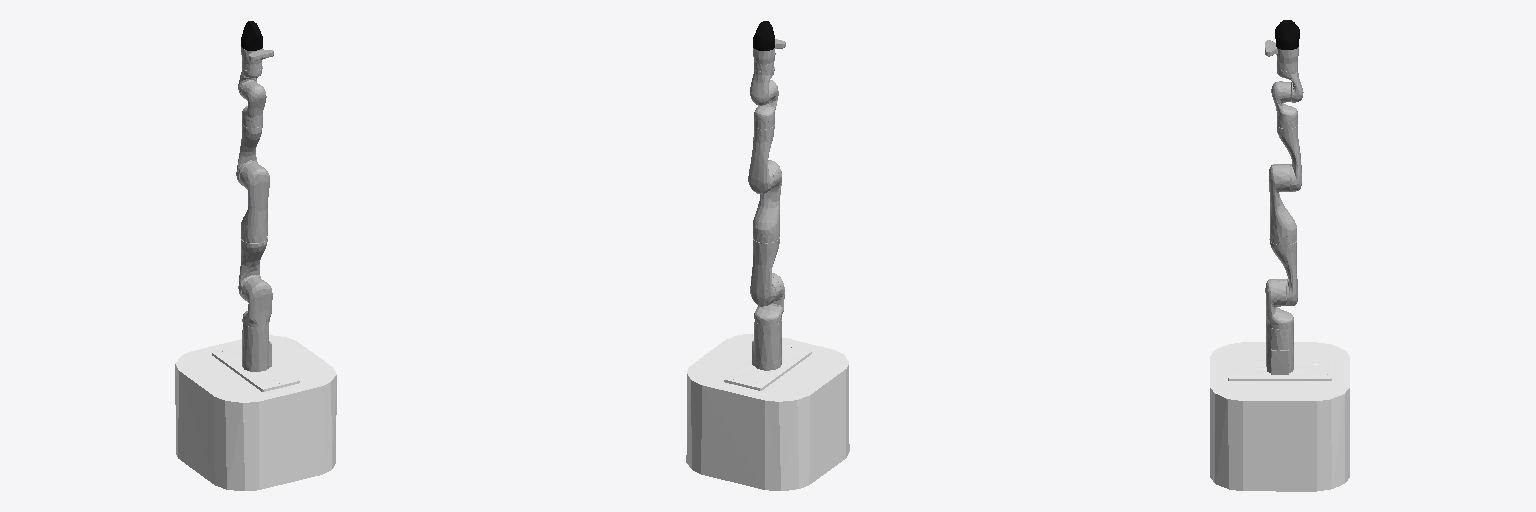
URDF robot description (gen3_robotiq_2f_85):
<?xml version="1.0" encoding="utf-8"?>
<!-- =================================================================================== -->
<!-- |    This document was autogenerated by xacro from gen3_robotiq_2f_85.xacro       | -->
<!-- |    EDITING THIS FILE BY HAND IS NOT RECOMMENDED                                 | -->
<!-- =================================================================================== -->
<robot name="gen3_robotiq_2f_85">
  <material name="White">
    <color rgba="1 1 1 1"/>
  </material>
  <material name="Grey">
    <color rgba="0.75294 0.75294 0.75294 1"/>
  </material>
  <material name="DarkGrey">
    <color rgba="0.2 0.2 0.2 1"/>
  </material>
  <material name="LightGrey">
    <color rgba="0.9 0.9 0.9 1"/>
  </material>
  <link name="mobile_base_link">
    <inertial>
      <origin rpy="0 0 0" xyz="0 0 0.085"/>
      <mass value="50.0"/>
      <inertia ixx="0.004622" ixy="9E-06" ixz="6E-05" iyy="0.004495" iyz="9E-06" izz="0.002079"/>
    </inertial>
    <visual>
      <origin rpy="0 0 0" xyz="0 0 0"/>
      <geometry>
        <mesh filename="meshes/base/mobile_base.obj"/>
      </geometry>
      <material name="White"/>
    </visual>
    <collision>
      <origin rpy="0 0 0" xyz="0 0 0"/>
      <geometry>
        <mesh filename="meshes/base/mobile_base.obj"/>
      </geometry>
    </collision>
  </link>
  <link name="kinova_base_link">
    <inertial>
      <origin rpy="0 0 0" xyz="-0.000648 -0.000166 0.084487"/>
      <mass value="1.697"/>
      <inertia ixx="0.004622" ixy="9E-06" ixz="6E-05" iyy="0.004495" iyz="9E-06" izz="0.002079"/>
    </inertial>
    <visual>
      <origin rpy="0 0 0" xyz="0 0 0"/>
      <geometry>
        <mesh filename="meshes/arm_col/base_link.STL"/>
      </geometry>
      <material name="">
        <color rgba="0.75294 0.75294 0.75294 1"/>
      </material>
    </visual>
    <collision>
      <origin rpy="0 0 0" xyz="0 0 0"/>
      <geometry>
        <mesh filename="meshes/arm_col/base_link.STL"/>
      </geometry>
    </collision>
  </link>
  <joint name="joint_0" type="fixed">
    <!-- NOTE: in reality x is reversed for kinova arm, hence non-zero rpy -->
    <origin rpy="0 0 3.14159" xyz="0 0 0.335"/>
    <parent link="mobile_base_link"/>
    <child link="kinova_base_link"/>
    <axis xyz="0 0 1"/>
  </joint>
  <link name="shoulder_link">
    <inertial>
      <origin rpy="0 0 0" xyz="-2.3E-05 -0.010364 -0.07336"/>
      <mass value="1.3773"/>
      <inertia ixx="0.00457" ixy="1E-06" ixz="2E-06" iyy="0.004831" iyz="0.000448" izz="0.001409"/>
    </inertial>
    <visual>
      <origin rpy="0 0 0" xyz="0 0 0"/>
      <geometry>
        <mesh filename="meshes/arm_col/shoulder_link.STL"/>
      </geometry>
      <material name="">
        <color rgba="0.75294 0.75294 0.75294 1"/>
      </material>
    </visual>
    <collision>
      <origin rpy="0 0 0" xyz="0 0 0"/>
      <geometry>
        <mesh filename="meshes/arm_col/shoulder_link.STL"/>
      </geometry>
    </collision>
  </link>
  <joint name="joint_1" type="continuous">
    <origin rpy="3.1416 2.7629E-18 -4.9305E-36" xyz="0 0 0.15643"/>
    <parent link="kinova_base_link"/>
    <child link="shoulder_link"/>
    <axis xyz="0 0 1"/>
    <limit effort="39" lower="-3.14" upper="3.14" velocity="1.3963"/>
  </joint>
  <link name="half_arm_1_link">
    <inertial>
      <origin rpy="0 0 0" xyz="-4.4E-05 -0.09958 -0.013278"/>
      <mass value="1.1636"/>
      <inertia ixx="0.011088" ixy="5E-06" ixz="0" iyy="0.001072" iyz="-0.000691" izz="0.011255"/>
    </inertial>
    <visual>
      <origin rpy="0 0 0" xyz="0 0 0"/>
      <geometry>
        <mesh filename="meshes/arm_col/half_arm_1_link.STL"/>
      </geometry>
      <material name="LightGrey">
        <color rgba="0.75294 0.75294 0.75294 1"/>
      </material>
    </visual>
    <collision>
      <origin rpy="0 0 0" xyz="0 0 0"/>
      <geometry>
        <mesh filename="meshes/arm_col/half_arm_1_link.STL"/>
      </geometry>
    </collision>
  </link>
  <joint name="joint_2" type="revolute">
    <origin rpy="1.5708 2.1343E-17 -1.1102E-16" xyz="0 0.005375 -0.12838"/>
    <parent link="shoulder_link"/>
    <child link="half_arm_1_link"/>
    <axis xyz="0 0 1"/>
    <limit effort="100" lower="-6.2832" upper="6.2832" velocity="0.5"/>
  </joint>
  <link name="half_arm_2_link">
    <inertial>
      <origin rpy="0 0 0" xyz="-4.4E-05 -0.006641 -0.117892"/>
      <mass value="1.1636"/>
      <inertia ixx="0.010932" ixy="0" ixz="-7E-06" iyy="0.011127" iyz="0.000606" izz="0.001043"/>
    </inertial>
    <visual>
      <origin rpy="0 0 0" xyz="0 0 0"/>
      <geometry>
        <mesh filename="meshes/arm_col/half_arm_2_link.STL"/>
      </geometry>
      <material name="Grey">
        <color rgba="0.75294 0.75294 0.75294 1"/>
      </material>
    </visual>
    <collision>
      <origin rpy="0 0 0" xyz="0 0 0"/>
      <geometry>
        <mesh filename="meshes/arm_col/half_arm_2_link.STL"/>
      </geometry>
    </collision>
  </link>
  <joint name="joint_3" type="revolute">
    <origin rpy="-1.5708 1.2326E-32 -2.9122E-16" xyz="0 -0.21038 -0.006375"/>
    <parent link="half_arm_1_link"/>
    <child link="half_arm_2_link"/>
    <axis xyz="0 0 1"/>
    <limit effort="100" lower="-6.2832" upper="6.2832" velocity="0.5"/>
  </joint>
  <link name="forearm_link">
    <inertial>
      <origin rpy="0 0 0" xyz="-1.8E-05 -0.075478 -0.015006"/>
      <mass value="0.9302"/>
      <inertia ixx="0.008147" ixy="-1E-06" ixz="0" iyy="0.000631" iyz="-0.0005" izz="0.008316"/>
    </inertial>
    <visual>
      <origin rpy="0 0 0" xyz="0 0 0"/>
      <geometry>
        <mesh filename="meshes/arm_col/forearm_link.STL"/>
      </geometry>
      <material name="LightGrey">
        <color rgba="0.75294 0.75294 0.75294 1"/>
      </material>
    </visual>
    <collision>
      <origin rpy="0 0 0" xyz="0 0 0"/>
      <geometry>
        <mesh filename="meshes/arm_col/forearm_link.STL"/>
      </geometry>
    </collision>
  </link>
  <joint name="joint_4" type="revolute">
    <origin rpy="1.5708 -6.6954E-17 -1.6653E-16" xyz="0 0.006375 -0.21038"/>
    <parent link="half_arm_2_link"/>
    <child link="forearm_link"/>
    <axis xyz="0 0 1"/>
    <limit effort="100" lower="-6.2832" upper="6.2832" velocity="0.5"/>
  </joint>
  <link name="spherical_wrist_1_link">
    <inertial>
      <origin rpy="0 0 0" xyz="1E-06 -0.009432 -0.063883"/>
      <mass value="0.6781"/>
      <inertia ixx="0.001596" ixy="0" ixz="0" iyy="0.001607" iyz="0.000256" izz="0.000399"/>
    </inertial>
    <visual>
      <origin rpy="0 0 0" xyz="0 0 0"/>
      <geometry>
        <mesh filename="meshes/arm_col/spherical_wrist_1_link.STL"/>
      </geometry>
      <material name="Grey">
        <color rgba="0.75294 0.75294 0.75294 1"/>
      </material>
    </visual>
    <collision>
      <origin rpy="0 0 0" xyz="0 0 0"/>
      <geometry>
        <mesh filename="meshes/arm_col/spherical_wrist_1_link.STL"/>
      </geometry>
    </collision>
  </link>
  <joint name="joint_5" type="revolute">
    <origin rpy="-1.5708 2.2204E-16 -6.373E-17" xyz="0 -0.20843 -0.006375"/>
    <parent link="forearm_link"/>
    <child link="spherical_wrist_1_link"/>
    <axis xyz="0 0 1"/>
    <limit effort="30" lower="-6.2832" upper="6.2832" velocity="0.5"/>
  </joint>
  <link name="spherical_wrist_2_link">
    <inertial>
      <origin rpy="0 0 0" xyz="1E-06 -0.045483 -0.00965"/>
      <mass value="0.6781"/>
      <inertia ixx="0.001641" ixy="0" ixz="0" iyy="0.00041" iyz="-0.000278" izz="0.001641"/>
    </inertial>
    <visual>
      <origin rpy="0 0 0" xyz="0 0 0"/>
      <geometry>
        <mesh filename="meshes/arm_col/spherical_wrist_2_link.STL"/>
      </geometry>
      <material name="Grey">
        <color rgba="0.75294 0.75294 0.75294 1"/>
      </material>
    </visual>
    <collision>
      <origin rpy="0 0 0" xyz="0 0 0"/>
      <geometry>
        <mesh filename="meshes/arm_col/spherical_wrist_2_link.STL"/>
      </geometry>
    </collision>
  </link>
  <joint name="joint_6" type="revolute">
    <origin rpy="1.5708 9.2076E-28 -8.2157E-15" xyz="0 0.00017505 -0.10593"/>
    <parent link="spherical_wrist_1_link"/>
    <child link="spherical_wrist_2_link"/>
    <axis xyz="0 0 1"/>
    <limit effort="30" lower="-6.2832" upper="6.2832" velocity="0.5"/>
  </joint>
  <link name="bracelet_link">
    <inertial>
      <origin rpy="0 0 0" xyz="0.000281 0.011402 -0.029798"/>
      <mass value="0.5"/>
      <inertia ixx="0.000587" ixy="3E-06" ixz="3E-06" iyy="0.000369" iyz="-0.000118" izz="0.000609"/>
    </inertial>
    <visual>
      <origin rpy="0 0 0" xyz="0 0 0"/>
      <geometry>
        <mesh filename="meshes/arm_col/bracelet_with_vision_link.STL"/>
      </geometry>
      <material name="Grey">
        <color rgba="0.75294 0.75294 0.75294 1"/>
      </material>
    </visual>
    <collision>
      <origin rpy="0 0 0" xyz="0 0 0"/>
      <geometry>
        <mesh filename="meshes/arm_col/bracelet_with_vision_link.STL"/>
      </geometry>
    </collision>
  </link>
  <joint name="joint_7" type="revolute">
    <origin rpy="-1.5708 -5.5511E-17 9.6396E-17" xyz="0 -0.10593 -0.00017505"/>
    <parent link="spherical_wrist_2_link"/>
    <child link="bracelet_link"/>
    <axis xyz="0 0 1"/>
    <limit effort="30" lower="-6.2832" upper="6.2832" velocity="0.5"/>
  </joint>
  <link name="end_effector_link"/>
  <joint name="end_effector" type="fixed">
    <origin rpy="3.14159265358979 1.09937075168372E-32 0" xyz="0 0 -0.0615250000000001"/>
    <parent link="bracelet_link"/>
    <child link="end_effector_link"/>
    <axis xyz="0 0 0"/>
  </joint>
  <!-- Tool frame used by the arm -->
  <link name="tool_frame"/>
  <joint name="tool_frame_joint" type="fixed">
    <origin rpy="0 0 0" xyz="0 0 0.1425"/>  # was: 0.120
    <parent link="end_effector_link"/>
    <child link="tool_frame"/>
    <axis xyz="0 0 0"/>
  </joint>
  <!-- This joint was added by Kinova -->
  <joint name="gripper_base_joint" type="fixed">
    <parent link="end_effector_link"/>
    <child link="robotiq_arg2f_base_link"/>
    <origin rpy="0.0 0.0 1.57" xyz="0.0 0.0 0.0"/>
  </joint>
  <link name="robotiq_arg2f_base_link">
    <inertial>
      <origin rpy="0 0 0" xyz="8.625E-08 -4.6583E-06 0.03145"/>
      <mass value="0.22652"/>
      <inertia ixx="0.00020005" ixy="-4.2442E-10" ixz="-2.9069E-10" iyy="0.00017832" iyz="-3.4402E-08" izz="0.00013478"/>
    </inertial>
    <visual>
      <origin rpy="0 0 0" xyz="0 0 0"/>
      <geometry>
        <mesh filename="meshes/gripper/collision/robotiq_arg2f_base_link_kinova_frame.stl"/>
      </geometry>
      <material name="DarkGrey">
        <color rgba="0.1 0.1 0.1 1"/>
      </material>
    </visual>
    <collision>
      <origin rpy="0 0 0" xyz="0 0 0"/>
      <geometry>
        <mesh filename="meshes/gripper/collision/robotiq_arg2f_base_link_kinova_frame.stl"/>
      </geometry>
    </collision>
  </link>
  <gazebo reference="robotiq_arg2f_base_link">
    <material>Gazebo/Black</material>
  </gazebo>
  <link name="left_outer_knuckle">
    <inertial>
      <origin rpy="0 0 0" xyz="-0.000200000000003065 0.0199435877845359 0.0292245259211331"/>
      <mass value="0.00853198276973456"/>
      <inertia ixx="2.89328108496468E-06" ixy="-1.57935047237397E-19" ixz="-1.93980378593255E-19" iyy="1.86719750325683E-06" iyz="-1.21858577871576E-06" izz="1.21905238907251E-06"/>
    </inertial>
    <visual>
      <origin rpy="0 0 0" xyz="0 0 0"/>
      <geometry>
        <mesh filename="meshes/gripper/visual/robotiq_arg2f_85_outer_knuckle.dae" scale="0.001 0.001 0.001"/>
      </geometry>
      <material name="DarkGrey"/>
    </visual>
    <collision>
      <origin rpy="0 0 0" xyz="0 0 0"/>
      <geometry>
        <mesh filename="meshes/gripper/collision/robotiq_arg2f_85_outer_knuckle.dae" scale="0.001 0.001 0.001"/>
      </geometry>
    </collision>
  </link>
  <link name="left_outer_finger">
    <inertial>
      <origin rpy="0 0 0" xyz="0.00030115855001899 0.0373907951953854 -0.0208027427000385"/>
      <mass value="0.022614240507152"/>
      <inertia ixx="1.52518312458174E-05" ixy="9.76583423954399E-10" ixz="-5.43838577022588E-10" iyy="6.17694243867776E-06" iyz="6.78636130740228E-06" izz="1.16494917907219E-05"/>
    </inertial>
    <visual>
      <origin rpy="0 0 0" xyz="0 0 0"/>
      <geometry>
        <mesh filename="meshes/gripper/visual/robotiq_arg2f_85_outer_finger.dae" scale="0.001 0.001 0.001"/>
      </geometry>
      <material name="DarkGrey">
      </material>
    </visual>
    <collision>
      <origin rpy="0 0 0" xyz="0 0 0"/>
      <geometry>
        <mesh filename="meshes/gripper/collision/robotiq_arg2f_85_outer_finger.dae" scale="0.001 0.001 0.001"/>
      </geometry>
    </collision>
  </link>
  <link name="left_inner_finger">
    <inertial>
      <origin rpy="0 0 0" xyz="0.000299999999999317 0.0160078233491243 -0.0136945669206257"/>
      <mass value="0.0104003125914103"/>
      <inertia ixx="2.71909453810972E-06" ixy="1.35402465472579E-21" ixz="-7.1817349065269E-22" iyy="7.69100314106116E-07" iyz="6.74715432769696E-07" izz="2.30315190420171E-06"/>
    </inertial>
    <visual>
      <origin rpy="0 0 0" xyz="0 0 0"/>
      <geometry>
        <mesh filename="meshes/gripper/visual/robotiq_arg2f_85_inner_finger.dae" scale="0.001 0.001 0.001"/>
      </geometry>
      <material name="Grey"/>
    </visual>
    <collision>
      <origin rpy="0 0 0" xyz="0 0 0"/>
      <geometry>
        <mesh filename="meshes/gripper/collision/robotiq_arg2f_85_inner_finger.dae" scale="0.001 0.001 0.001"/>
      </geometry>
    </collision>
  </link>
  <link name="left_inner_finger_pad">
    <visual>
      <origin rpy="0 0 0" xyz="0 0 0"/>
      <geometry>
        <!-- box size="0.022 0.00635 0.0375"/ -->
        <mesh filename="meshes/gripper/visual/robotiq_arg2f_85_pad.dae" scale="0.001 0.001 0.001" />
      </geometry>
      <material name="Grey">
        <color rgba="0.9 0.9 0.9 1"/>
      </material>
    </visual>
    <collision>
      <origin rpy="0 0 0" xyz="0 0 0"/>
      <geometry>
        <!--box size="0.022 0.00635 0.0375"/ -->
        <mesh filename="meshes/gripper/collision/robotiq_arg2f_85_pad.dae" scale="0.001 0.001 0.001" />
      </geometry>
      <material name="Grey"/>
    </collision>
  </link>
  <link name="left_inner_knuckle">
    <inertial>
      <origin rpy="0 0 0" xyz="0.000123011831763771 0.0507850843201817 0.00103968640075166"/>
      <mass value="0.0271177346495152"/>
      <inertia ixx="2.61910379223783E-05" ixy="-2.43616858946494E-07" ixz="-6.37789906117123E-09" iyy="2.8270243746167E-06" iyz="-5.37200748039765E-07" izz="2.83695868220296E-05"/>
    </inertial>
    <visual>
      <origin rpy="0 0 0" xyz="0 0 0"/>
      <geometry>
        <mesh filename="meshes/gripper/visual/robotiq_arg2f_85_inner_knuckle.dae" scale="0.001 0.001 0.001"/>
      </geometry>
      <material name="DarkGrey"/>
    </visual>
    <collision>
      <origin rpy="0 0 0" xyz="0 0 0"/>
      <geometry>
        <mesh filename="meshes/gripper/collision/robotiq_arg2f_85_inner_knuckle.dae" scale="0.001 0.001 0.001"/>
      </geometry>
    </collision>
  </link>
  <link name="right_outer_knuckle">
    <inertial>
      <origin rpy="0 0 0" xyz="-0.000200000000003065 0.0199435877845359 0.0292245259211331"/>
      <mass value="0.00853198276973456"/>
      <inertia ixx="2.89328108496468E-06" ixy="-1.57935047237397E-19" ixz="-1.93980378593255E-19" iyy="1.86719750325683E-06" iyz="-1.21858577871576E-06" izz="1.21905238907251E-06"/>
    </inertial>
    <visual>
      <origin rpy="0 0 0" xyz="0 0 0"/>
      <geometry>
        <mesh filename="meshes/gripper/visual/robotiq_arg2f_85_outer_knuckle.dae" scale="0.001 0.001 0.001"/>
      </geometry>
      <material name="DarkGrey"/>
    </visual>
    <collision>
      <origin rpy="0 0 0" xyz="0 0 0"/>
      <geometry>
        <mesh filename="meshes/gripper/collision/robotiq_arg2f_85_outer_knuckle.dae" scale="0.001 0.001 0.001"/>
      </geometry>
    </collision>
  </link>
  <link name="right_outer_finger">
    <inertial>
      <origin rpy="0 0 0" xyz="0.00030115855001899 0.0373907951953854 -0.0208027427000385"/>
      <mass value="0.022614240507152"/>
      <inertia ixx="1.52518312458174E-05" ixy="9.76583423954399E-10" ixz="-5.43838577022588E-10" iyy="6.17694243867776E-06" iyz="6.78636130740228E-06" izz="1.16494917907219E-05"/>
    </inertial>
    <visual>
      <origin rpy="0 0 0" xyz="0 0 0"/>
      <geometry>
        <mesh filename="meshes/gripper/visual/robotiq_arg2f_85_outer_finger.dae" scale="0.001 0.001 0.001"/>
      </geometry>
      <material name="DarkGrey">
      </material>
    </visual>
    <collision>
      <origin rpy="0 0 0" xyz="0 0 0"/>
      <geometry>
        <mesh filename="meshes/gripper/collision/robotiq_arg2f_85_outer_finger.dae" scale="0.001 0.001 0.001"/>
      </geometry>
    </collision>
  </link>
  <link name="right_inner_finger">
    <inertial>
      <origin rpy="0 0 0" xyz="0.000299999999999317 0.0160078233491243 -0.0136945669206257"/>
      <mass value="0.0104003125914103"/>
      <inertia ixx="2.71909453810972E-06" ixy="1.35402465472579E-21" ixz="-7.1817349065269E-22" iyy="7.69100314106116E-07" iyz="6.74715432769696E-07" izz="2.30315190420171E-06"/>
    </inertial>
    <visual>
      <origin rpy="0 0 0" xyz="0 0 0"/>
      <geometry>
        <mesh filename="meshes/gripper/visual/robotiq_arg2f_85_inner_finger.dae" scale="0.001 0.001 0.001"/>
      </geometry>
      <material name="Grey">
        <color rgba="1 0 0 1"/>
      </material>
    </visual>
    <collision>
      <origin rpy="0 0 0" xyz="0 0 0"/>
      <geometry>
        <mesh filename="meshes/gripper/collision/robotiq_arg2f_85_inner_finger.dae" scale="0.001 0.001 0.001"/>
      </geometry>
    </collision>
  </link>
  <link name="right_inner_finger_pad">
    <visual>
      <origin rpy="0 0 0" xyz="0 0 0"/>
      <geometry>
        <!-- box size="0.022 0.00635 0.0375"/ -->
        <mesh filename="meshes/gripper/visual/robotiq_arg2f_85_pad.dae" scale="0.001 0.001 0.001" />
      </geometry>
      <material name="Grey">
        <color rgba="0.9 0.9 0.9 1"/>
      </material>
    </visual>
    <collision>
      <origin rpy="0 0 0" xyz="0 0 0"/>
      <geometry>
        <!-- box size="0.022 0.00635 0.0375"/ -->
        <mesh filename="meshes/gripper/collision/robotiq_arg2f_85_pad.dae" scale="0.001 0.001 0.001" />
      </geometry>
      <material name="Grey">
        <color rgba="0.9 0.0 0.0 1"/>
      </material>
    </collision>
  </link>
  <link name="right_inner_knuckle">
    <inertial>
      <origin rpy="0 0 0" xyz="0.000123011831763771 0.0507850843201817 0.00103968640075166"/>
      <mass value="0.0271177346495152"/>
      <inertia ixx="2.61910379223783E-05" ixy="-2.43616858946494E-07" ixz="-6.37789906117123E-09" iyy="2.8270243746167E-06" iyz="-5.37200748039765E-07" izz="2.83695868220296E-05"/>
    </inertial>
    <visual>
      <origin rpy="0 0 0" xyz="0 0 0"/>
      <geometry>
        <mesh filename="meshes/gripper/visual/robotiq_arg2f_85_inner_knuckle.dae" scale="0.001 0.001 0.001"/>
      </geometry>
      <material name="DarkGrey"/>
    </visual>
    <collision>
      <origin rpy="0 0 0" xyz="0 0 0"/>
      <geometry>
        <mesh filename="meshes/gripper/collision/robotiq_arg2f_85_inner_knuckle.dae" scale="0.001 0.001 0.001"/>
      </geometry>
    </collision>
  </link>
  <joint name="finger_joint" type="fixed">
    <origin rpy="0.7 0 3.14159265359" xyz="0 -0.0306011 0.054904"/>
    <parent link="robotiq_arg2f_base_link"/>
    <child link="left_outer_knuckle"/>
    <axis xyz="1 0 0"/>
    <limit effort="1000" lower="0" upper="0.8" velocity="2.0"/>
  </joint>
  <joint name="left_outer_finger_joint" type="fixed">
    <origin rpy="0 0 0" xyz="0 0.0315 -0.0041"/>
    <parent link="left_outer_knuckle"/>
    <child link="left_outer_finger"/>
    <axis xyz="1 0 0"/>
  </joint>
  <joint name="left_inner_knuckle_joint" type="fixed">>
    <!-- <origin xyz="0 ${reflect * -0.0127} 0.06142" rpy="${pi / 2 + .725} 0 ${(reflect - 1) * pi / 2}" /> -->
    <origin rpy="0.7 0 3.14159265359" xyz="0 -0.0127 0.06142"/>
    <parent link="robotiq_arg2f_base_link"/>
    <child link="left_inner_knuckle"/>
    <axis xyz="1 0 0"/>
    <limit effort="1000" lower="0" upper="0.8757" velocity="2.0"/>
    <mimic joint="finger_joint" multiplier="1" offset="0"/>
  </joint>
  <joint name="left_inner_finger_joint" type="fixed">>
    <origin rpy="-0.7 0 0" xyz="0 0.0061 0.0471"/>
    <parent link="left_outer_finger"/>
    <child link="left_inner_finger"/>
    <axis xyz="1 0 0"/>
    <limit effort="1000" lower="-0.8757" upper="0.8757" velocity="2.0"/>
    <mimic joint="finger_joint" multiplier="-1" offset="0"/>
  </joint>
  <joint name="left_inner_finger_pad_joint" type="fixed">
    <origin rpy="0 0 0" xyz="0 0 0"/>
    <parent link="left_inner_finger"/>
    <child link="left_inner_finger_pad"/>
    <axis xyz="0 0 1"/>
  </joint>
  <joint name="right_outer_knuckle_joint" type="fixed">>
    <origin rpy="0.7 0 0" xyz="0 0.0306011 0.054904"/>
    <parent link="robotiq_arg2f_base_link"/>
    <child link="right_outer_knuckle"/>
    <axis xyz="1 0 0"/>
    <limit effort="1000" lower="0" upper="0.81" velocity="2.0"/>
    <mimic joint="finger_joint" multiplier="1" offset="0"/>
  </joint>
  <joint name="right_outer_finger_joint" type="fixed">
    <origin rpy="0 0 0" xyz="0 0.0315 -0.0041"/>
    <parent link="right_outer_knuckle"/>
    <child link="right_outer_finger"/>
    <axis xyz="1 0 0"/>
  </joint>
  <joint name="right_inner_knuckle_joint" type="fixed">>
    <!-- <origin xyz="0 ${reflect * -0.0127} 0.06142" rpy="${pi / 2 + .725} 0 ${(reflect - 1) * pi / 2}" /> -->
    <origin rpy="0.7 0 0.0" xyz="0 0.0127 0.06142"/>
    <parent link="robotiq_arg2f_base_link"/>
    <child link="right_inner_knuckle"/>
    <axis xyz="1 0 0"/>
    <limit effort="1000" lower="0.8757" upper="0.8757" velocity="2.0"/>
    <mimic joint="finger_joint" multiplier="1" offset="0"/>
  </joint>
  <joint name="right_inner_finger_joint" type="fixed">>
    <origin rpy="-0.7 0 0" xyz="0 0.0061 0.0471"/>
    <parent link="right_outer_finger"/>
    <child link="right_inner_finger"/>
    <axis xyz="1 0 0"/>
    <limit effort="1000" lower="-0.8757" upper="0.8757" velocity="2.0"/>
    <mimic joint="finger_joint" multiplier="-1" offset="0"/>
  </joint>
  <joint name="right_inner_finger_pad_joint" type="fixed">
    <origin rpy="0 0 0" xyz="0 0 0"/>
    <parent link="right_inner_finger"/>
    <child link="right_inner_finger_pad"/>
    <axis xyz="0 0 1"/>
  </joint>
</robot>

--- Facts derived from the render (not from the file) ---
3 views of the same robot in one strip: view 1: azimuth 30°, elevation 25°; view 2: azimuth 150°, elevation 25°; view 3: azimuth 270°, elevation 25° (orthographic).
Model gen3_robotiq_2f_85 with 22 links and 21 joints (6 revolute, 1 continuous, 14 fixed), rooted at mobile_base_link, posed all joints at 0.
Visible links, largest first — view 1: mobile_base_link, half_arm_2_link, kinova_base_link, shoulder_link, half_arm_1_link, forearm_link, spherical_wrist_1_link, robotiq_arg2f_base_link; view 2: mobile_base_link, half_arm_1_link, forearm_link, kinova_base_link, half_arm_2_link, shoulder_link, spherical_wrist_2_link, robotiq_arg2f_base_link; view 3: mobile_base_link, half_arm_2_link, kinova_base_link, half_arm_1_link, shoulder_link, forearm_link, spherical_wrist_1_link, robotiq_arg2f_base_link, spherical_wrist_2_link.
Boxes of the visible links, x1,y1,x2,y2 form: mobile_base_link: (175, 335, 336, 490); half_arm_2_link: (240, 163, 269, 235); kinova_base_link: (242, 324, 271, 371); shoulder_link: (242, 277, 272, 327); half_arm_1_link: (238, 231, 267, 300); forearm_link: (236, 117, 262, 185); spherical_wrist_1_link: (242, 81, 266, 121); robotiq_arg2f_base_link: (241, 21, 262, 50); mobile_base_link: (686, 334, 849, 490); half_arm_1_link: (750, 230, 779, 306); forearm_link: (748, 118, 774, 193); kinova_base_link: (752, 320, 781, 370); half_arm_2_link: (753, 160, 781, 234); shoulder_link: (754, 273, 784, 325); spherical_wrist_2_link: (750, 62, 774, 105); robotiq_arg2f_base_link: (753, 21, 774, 50); mobile_base_link: (1210, 342, 1349, 491); half_arm_2_link: (1269, 164, 1296, 238); kinova_base_link: (1266, 325, 1293, 374); half_arm_1_link: (1269, 233, 1297, 305); shoulder_link: (1265, 279, 1293, 329); forearm_link: (1277, 118, 1301, 191); spherical_wrist_1_link: (1271, 81, 1297, 121); robotiq_arg2f_base_link: (1275, 20, 1299, 49); spherical_wrist_2_link: (1277, 61, 1303, 102).
Size in the robot's own frame: 0.4638 by 0.4638 by 1.61 metres.
10 mesh visuals loaded from 15 distinct referenced files (9 binary STL, 1 OBJ); not drawn: 10 (reference not matched to a file when rendering).